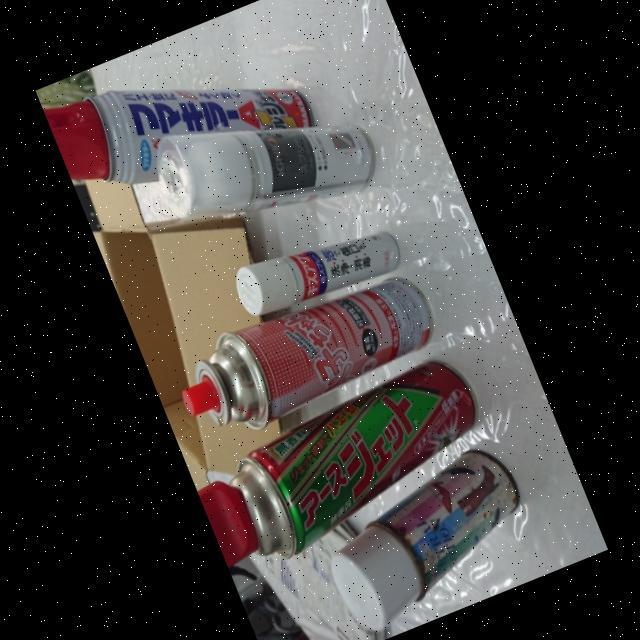chemical_spray_can: (197, 361, 473, 568), (180, 279, 429, 430), (41, 88, 310, 183)
